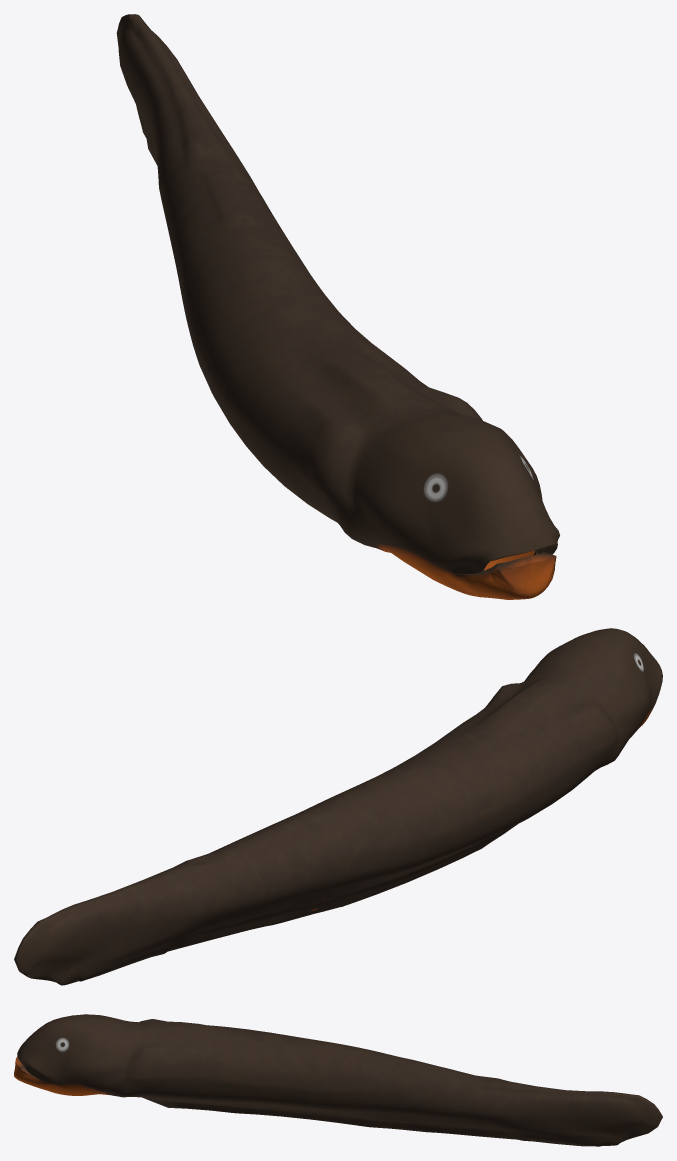
The model's file is electric-eel.glb.
3 views of the same model, one above another, from view 1: azimuth 30°, elevation 25°; view 2: azimuth 150°, elevation 25°; view 3: azimuth 270°, elevation 25° (orthographic). The views are drawn at different scales.
Visible parts, largest first — view 1: g; view 2: g; view 3: g.
Boxes of the visible parts, left/top/right/bottom form: g: left=116, top=14, right=559, bottom=599; g: left=14, top=628, right=662, bottom=985; g: left=14, top=1014, right=662, bottom=1146.
Bounding box in the file's own units: 0.5728 × 0.3111 × 2.
Materials: 1 (1 with a texture image).
